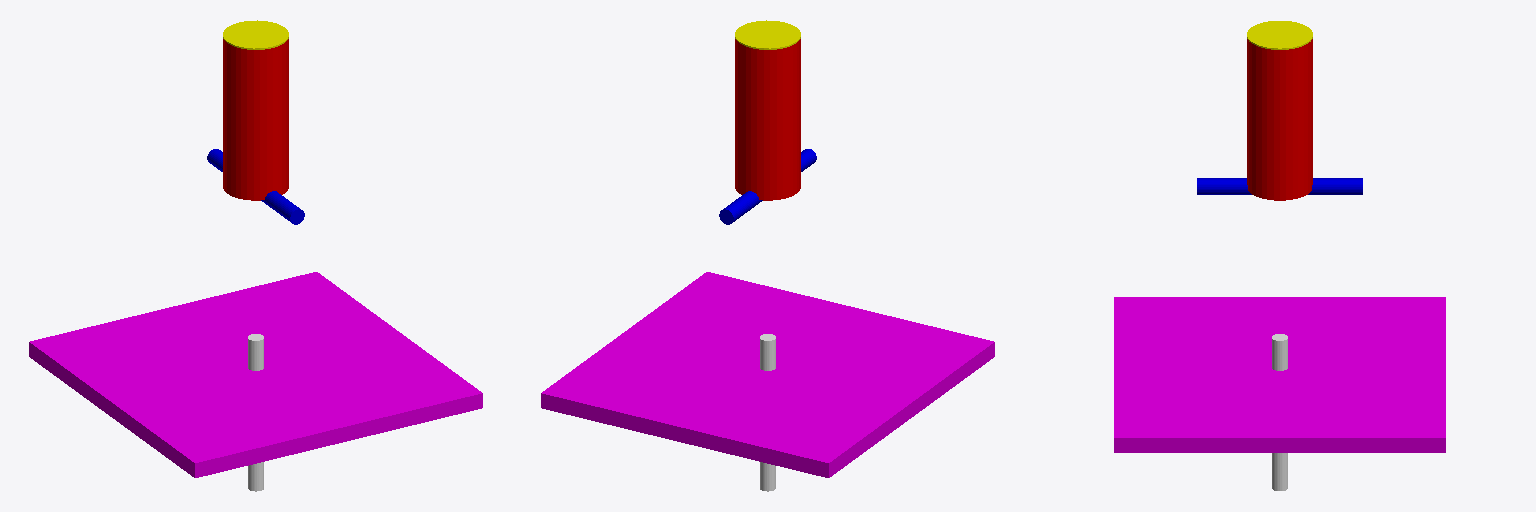
The robot description file, URDF, robot "screwdriver_on_the_table":
<robot name="screwdriver_on_the_table">
<link name="table">
    <visual>
      <origin rpy="0 0 0" xyz="0 0 -0.025" />
        <geometry>
            <box size="0.2 0.2 0.01" />
        </geometry>
           <material name="Purple1">
	 	<color rgba="0.9 0. 0.9 1.0" />
	</material>
    </visual>
</link>



<joint name="table_screwdriver_joint_1" type="revolute">
    <parent link="table" />
    <child link="vitrual_link_1" />
    <origin rpy="0 0 0" xyz="0 0 0" />
    <axis xyz="1 0 0" />
    <limit effort="10" lower="-1.57" upper="1.57" velocity="0.5" />
</joint>

<link name="vitrual_link_1">
    </link>

<joint name="table_screwdriver_joint_2" type="revolute">
    <parent link="vitrual_link_1" />
    <child link="vitrual_link_2" />
    <origin rpy="0 0 0" xyz="0 0 0" />
    <axis xyz="0 1 0" />
    <limit effort="10" lower="-1.57" upper="1.57" velocity="0.5" />
</joint>

<link name="vitrual_link_2">
    </link>

<joint name="table_screwdriver_joint_3" type="revolute">
    <parent link="vitrual_link_2" />
    <child link="screwdriver_stick" />
    <origin rpy="0 0 0" xyz="0 0 0" />
    <axis xyz="0 0 1" />
    <limit effort="10" lower="-1.57" upper="1.57" velocity="0.5" />
</joint>

<link name="screwdriver_stick">
    <visual>
        <origin rpy="3.1416 0 0" xyz="0 0 -0.05" />
        <geometry>
            <cylinder length="0.1" radius="0.005" />
        </geometry>
        <material name="White">
	 	    <color rgba="0.9 0.9 0.9 0.5" />
        </material>
    </visual>
    <collision>
        <origin rpy="0 0 0" xyz="0 0 0.05" />
        <geometry>
            <cylinder length="0.1" radius="0.005" />
        </geometry>
    </collision>
</link>

<joint name="screwdriver_stick_body_joint" type="fixed">
    <parent link="screwdriver_stick" />
    <child link="screwdriver_body" />
    <origin rpy="0 0 0" xyz="0 0 0.1" />
    <axis xyz="0 0 1" />
    <limit effort="10" lower="-1.57" upper="1.57" velocity="0.5" />
</joint>

<link name="screwdriver_body">
    <visual>
        <origin rpy="0 0 0" xyz="0 0 0.05" />
        <geometry>
            
            <cylinder length="0.1" radius="0.02" />
        </geometry>
        <material name="Red1">
	 	    <color rgba="0.9 0. 0. 0.5" />
        </material>
    </visual>
    <collision>
        <origin rpy="0 0 0" xyz="0 0 0.05" />
        <geometry>
            
            <cylinder length="0.1" radius="0.02" />
        </geometry>
    </collision>
</link>

<joint name="screwdriver_body_cap_joint" type="revolute">
    <parent link="screwdriver_body" />
    <child link="screwdriver_cap" />
    <origin rpy="0 0 0" xyz="0 0 0.1" />
    <axis xyz="0 0 1" />
    <limit effort="10" lower="-1.57" upper="1.57" velocity="0.5" />
</joint>

<link name="screwdriver_cap">
    <visual>
        <origin rpy="0 0 0" xyz="0 0 0.0005" />
        <geometry>
            
            <cylinder length="0.001" radius="0.02" />
        </geometry>
        <material name="Yellow">
	 	    <color rgba="0.9 0.9 0. 1.0" />
        </material>
    </visual>
    <collision>
        <origin rpy="0 0 0" xyz="0 0 0.0005" />
        <geometry>
            
            <cylinder length="0.001" radius="0.02" />
        </geometry>
    </collision>
</link>

<joint name="screwdriver_body_marker_joint" type="fixed">
    <parent link="screwdriver_body" />
    <child link="marker" />
    <origin rpy="0 0 0" xyz="0 0 0" />
    <axis xyz="0 0 1" />
    <limit effort="10" lower="-1.57" upper="1.57" velocity="0.5" />
</joint>

<link name="marker">
    <visual>
        <origin rpy="1.57 0 0" xyz="0 0 0" />
        <geometry>
            <cylinder length="0.1" radius="0.005" />
        </geometry>
        <material name="Blue">
	 	    <color rgba="0 0 0.9 1.0" />
        </material>
    </visual>
</link>

</robot>

--- Facts derived from the render (not from the file) ---
Views: 3 orthographic renders of the robot side by side, from view 1: azimuth 30°, elevation 25°; view 2: azimuth 150°, elevation 25°; view 3: azimuth 270°, elevation 25°.
Robot: screwdriver_on_the_table — 7 links, 6 joints (4 revolute, 2 fixed); root link table; default pose: every joint at zero.
Visible links, largest first — view 1: table, screwdriver_body, screwdriver_cap, screwdriver_stick, marker; view 2: table, screwdriver_body, screwdriver_cap, screwdriver_stick, marker; view 3: table, screwdriver_body, marker, screwdriver_cap, screwdriver_stick.
Boxes of the visible links, x1,y1,x2,y2 form: table: (29, 272, 482, 477); screwdriver_body: (223, 39, 288, 200); screwdriver_cap: (223, 20, 288, 49); screwdriver_stick: (248, 334, 263, 491); marker: (207, 149, 304, 224); table: (541, 272, 994, 477); screwdriver_body: (735, 39, 800, 200); screwdriver_cap: (735, 20, 800, 49); screwdriver_stick: (760, 334, 775, 491); marker: (719, 149, 816, 224); table: (1114, 297, 1445, 452); screwdriver_body: (1247, 39, 1312, 200); marker: (1197, 178, 1362, 194); screwdriver_cap: (1247, 21, 1312, 49); screwdriver_stick: (1272, 334, 1287, 490).
Bounding box of the posed robot: 0.2 × 0.2 × 0.301 m (x, y, z).
Geometry: primitives only (box / cylinder / sphere), no mesh files.
